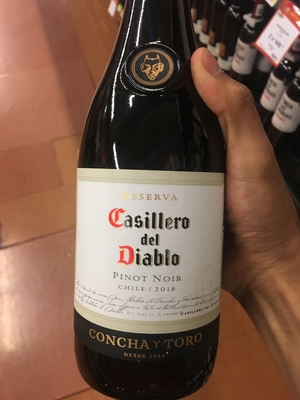casillero del diablo pinot noir: (75, 29, 245, 378)
